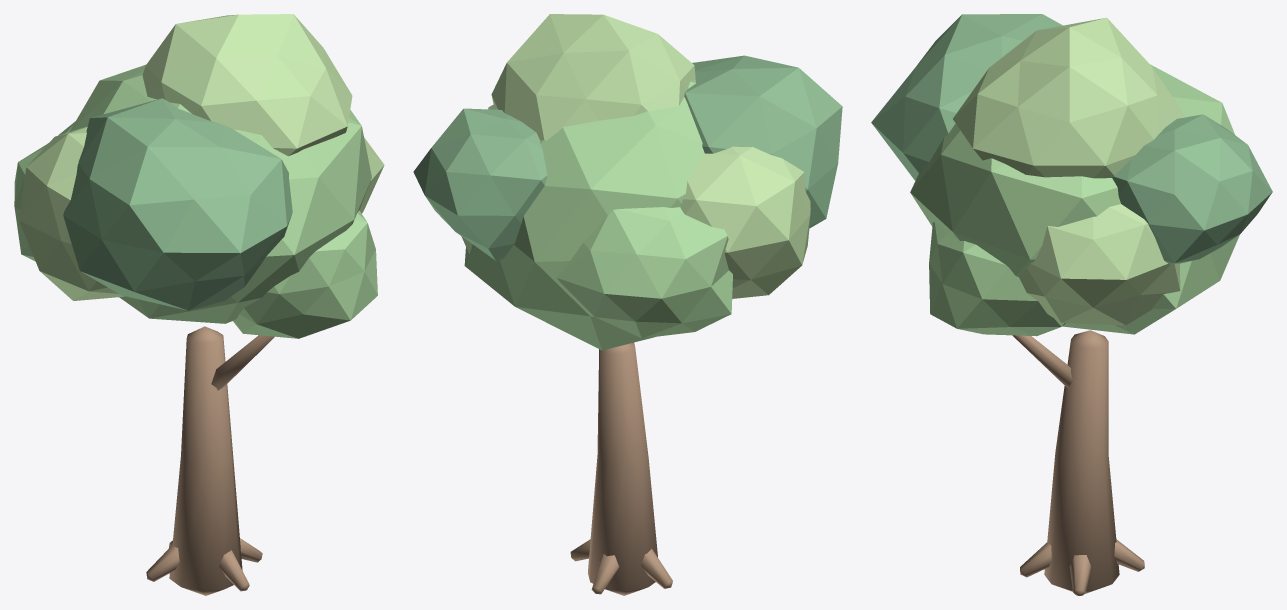
The model's file is tree_round_a.glb.
3 renders of one model, left to right at view 1: azimuth 30°, elevation 25°; view 2: azimuth 150°, elevation 25°; view 3: azimuth 270°, elevation 25°, orthographic.
Visible parts, largest first — view 1: tree_round_a; view 2: tree_round_a; view 3: tree_round_a.
Boxes of the visible parts, x1,y1,x2,y2 form: tree_round_a: [14, 14, 384, 595]; tree_round_a: [413, 14, 842, 595]; tree_round_a: [871, 14, 1272, 595].
Size of the model in its own units: 2.57 by 4.09 by 2.56.
